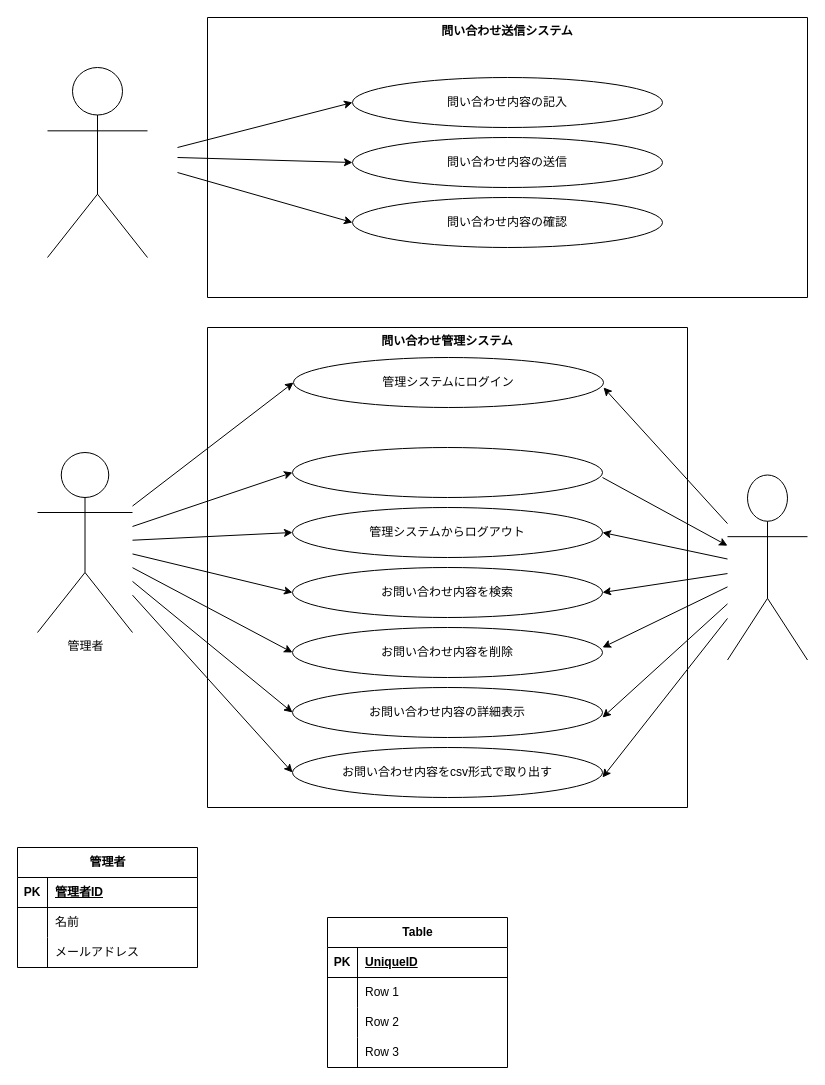
This 825x1085 diagram has some shape labels left out. Here are the shapes that lost their labels. From the top down, the centre of each, then its label:
the point at 97,162: 利用者
the point at 447,472: 新規ユーザーの作成・登録
the point at 767,567: 新規管理者
